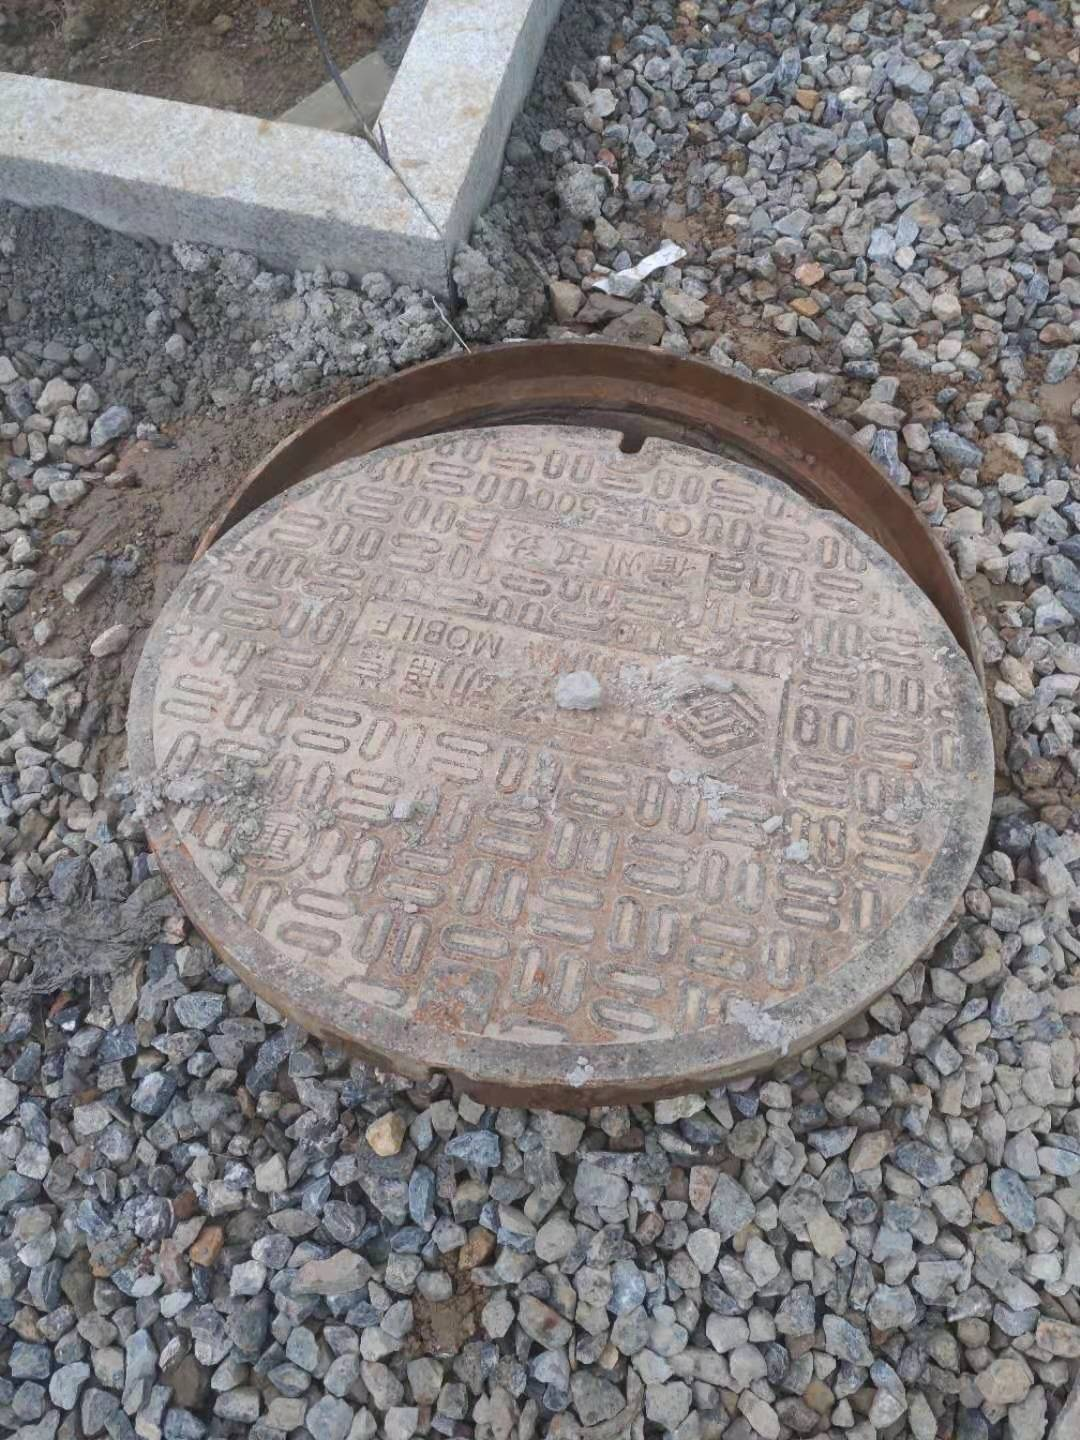well: (108, 328, 1007, 1093)
